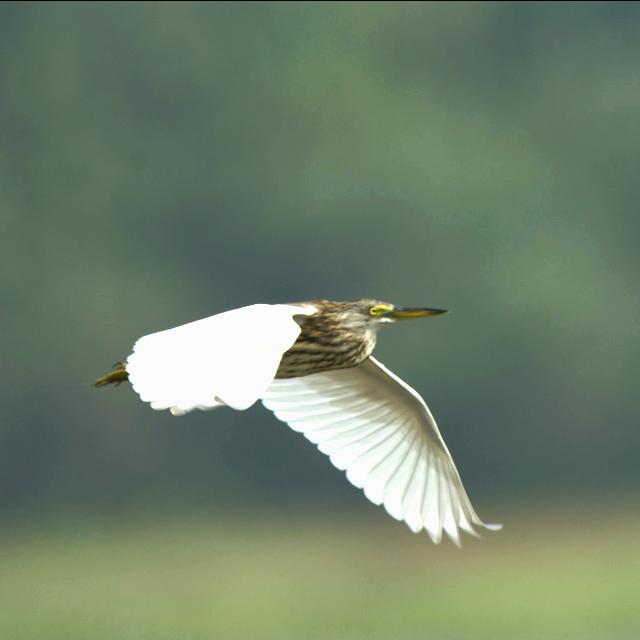heron: (102, 282, 514, 538)
